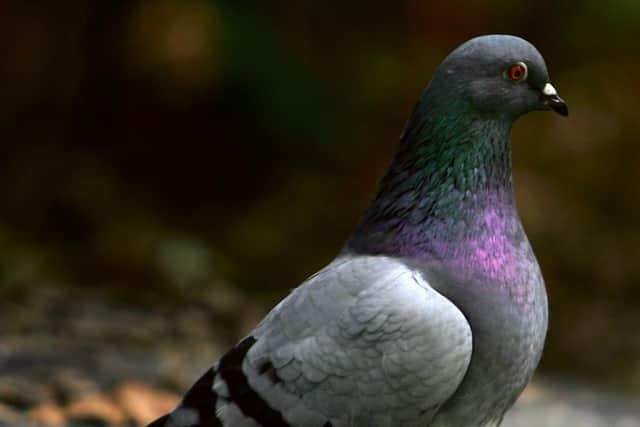Flying Rat: (154, 27, 575, 427)
